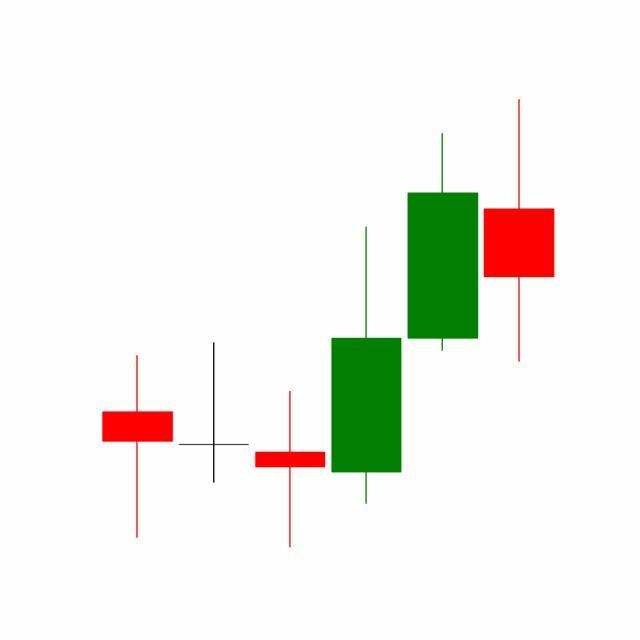Three Outside Up-Down: (252, 129, 482, 549)
